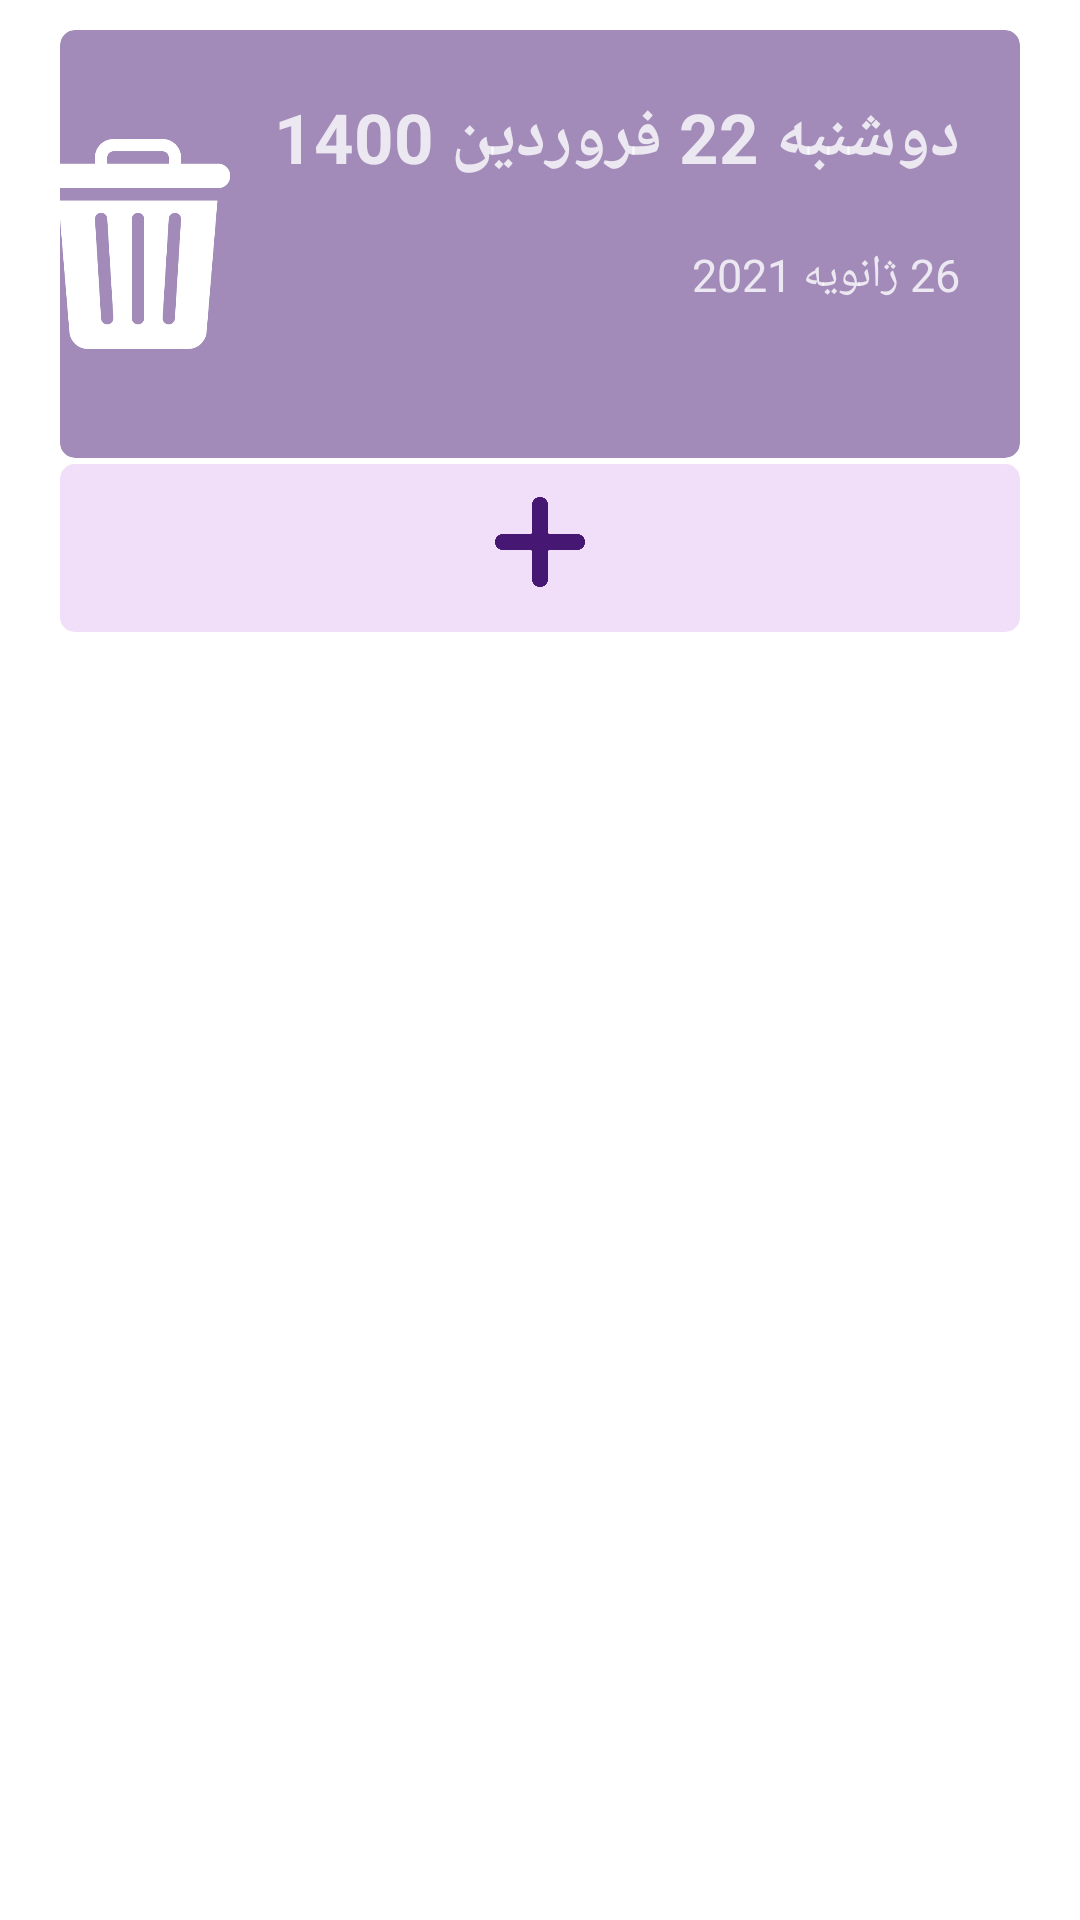

Screen size 1080px×1920px. Icon name, then its center in pixels as [x,y]:
add: [540,542]
